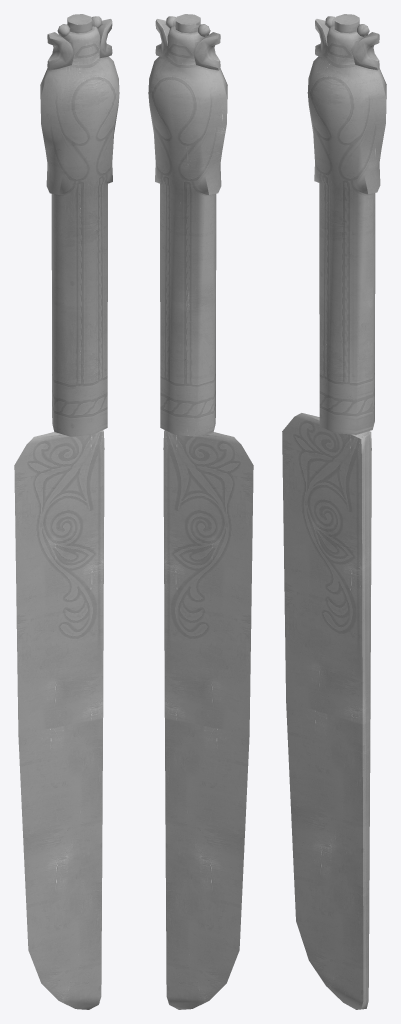
File: scarlet-banquet.glb
The picture shows the model from 3 angles, left to right: view 1: azimuth 30°, elevation 25°; view 2: azimuth 150°, elevation 25°; view 3: azimuth 330°, elevation 25°; orthographic projection.
Parts seen in each view (by area): view 1: 赤宴_调整_mesh; view 2: 赤宴_调整_mesh; view 3: 赤宴_调整_mesh.
Part boxes in pixels (left/top/right/bottom): 赤宴_调整_mesh: left=14, top=14, right=119, bottom=1009; 赤宴_调整_mesh: left=148, top=14, right=253, bottom=1009; 赤宴_调整_mesh: left=282, top=14, right=386, bottom=1009.
Size of the model in its own units: 0.0716 by 0.651 by 0.0451.
Materials: 1 (1 with a texture image).
